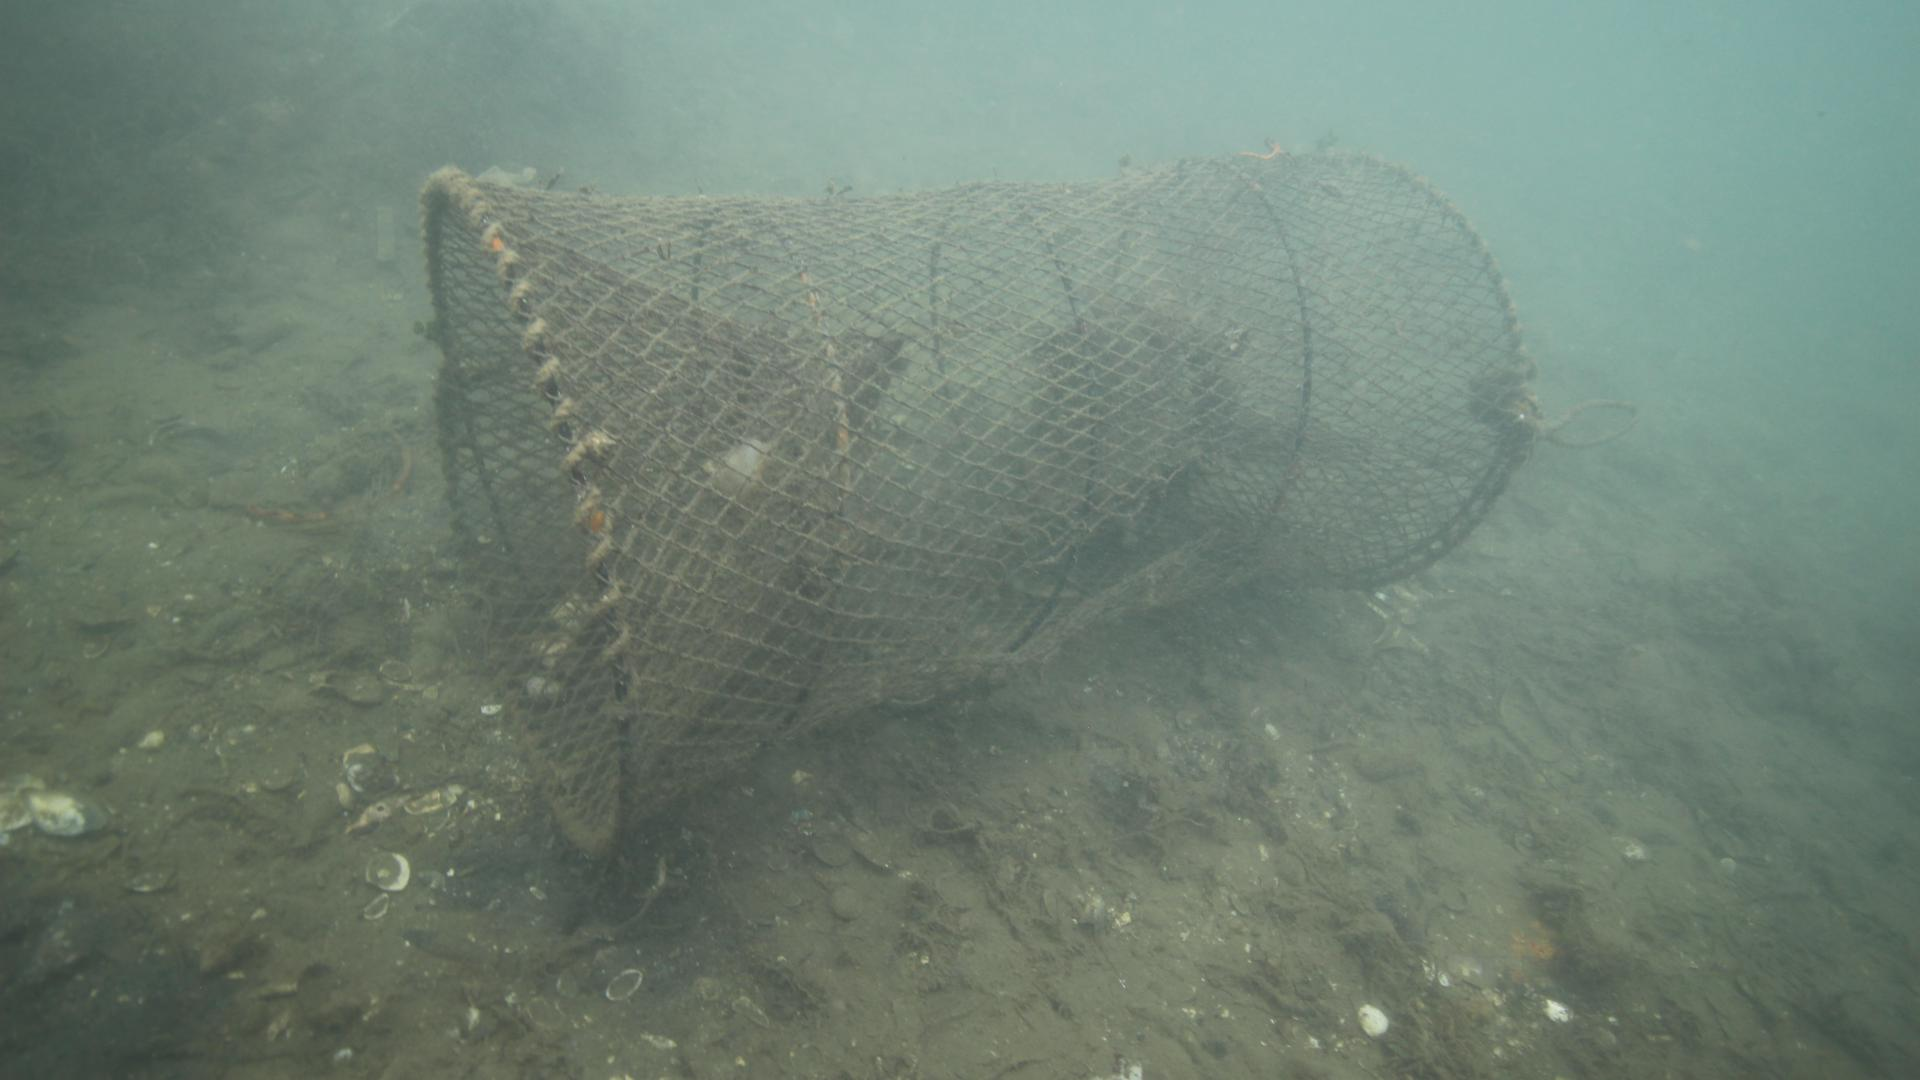bundle of ropes: (1527, 397, 1640, 451)
spring fish trap: (419, 145, 1535, 853)
